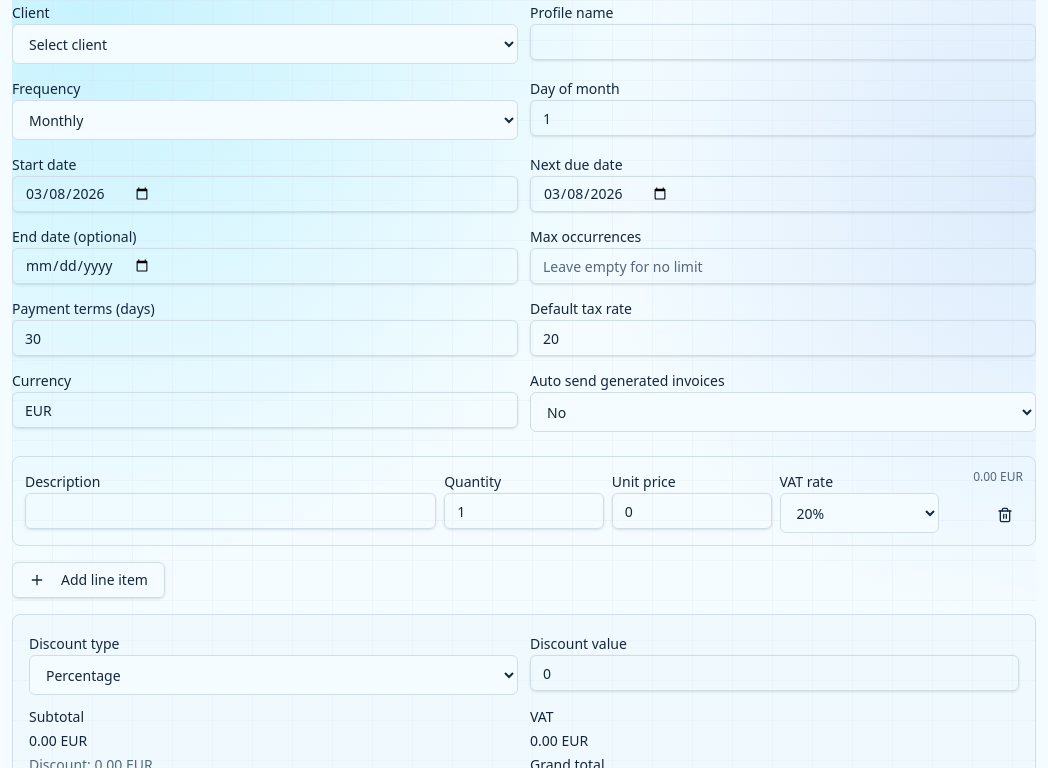
Test: RecurringInvoiceForm › validates end date is after start date
The width and height of the screenshot is (1048, 768).
Select "Acme" in the dropdown labelled "Client" at (265, 44), box 12,24 -> 518,64
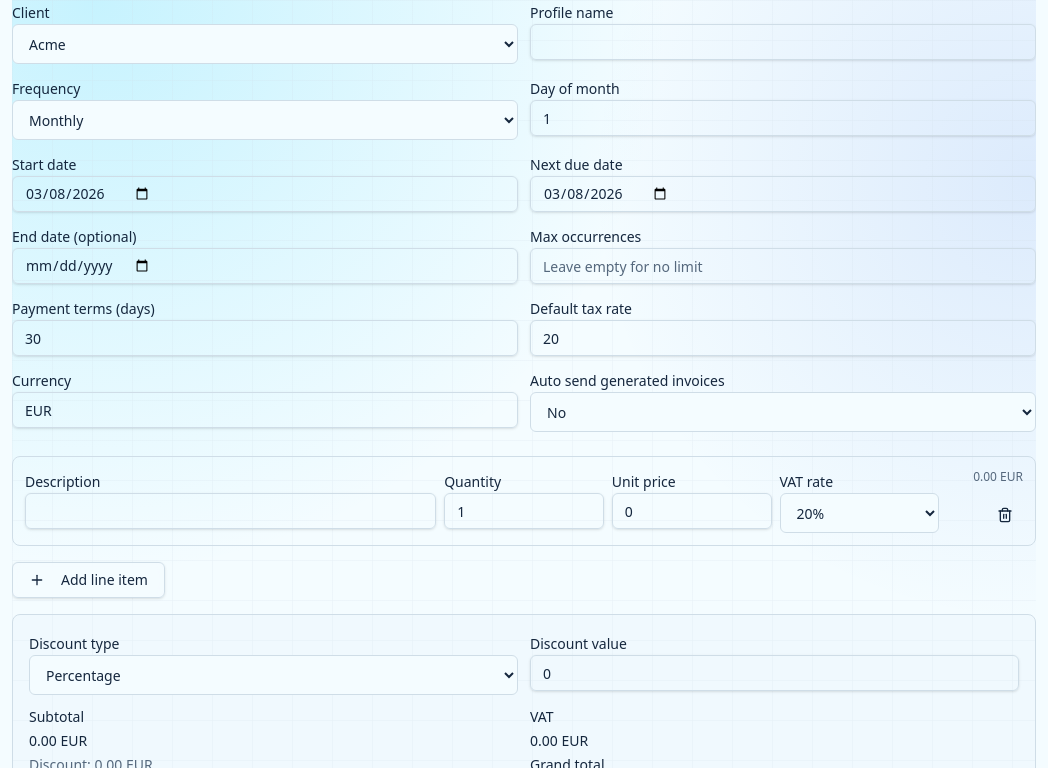
Type "Monthly" into the field labelled "Profile name".
click(783, 42); type("Monthly")  # box 530,24 -> 1036,60
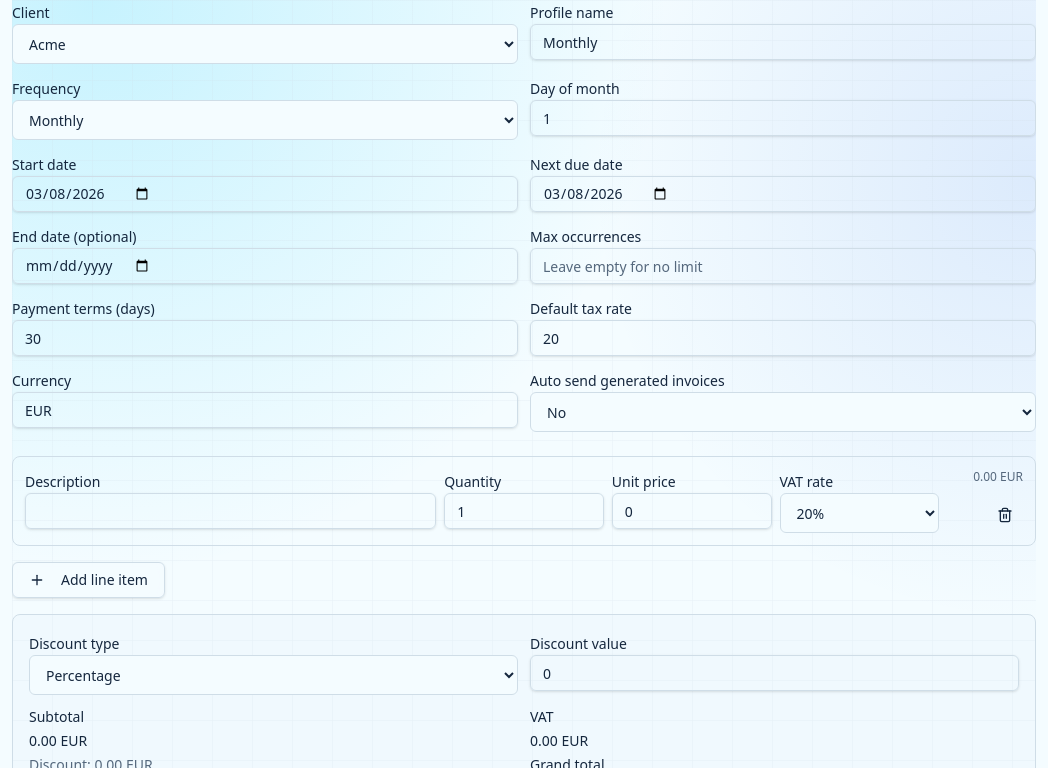
Type "2026-02-10" into the date field labelled "Start date".
click(265, 194); type("2026-02-10")  # box 12,176 -> 518,212
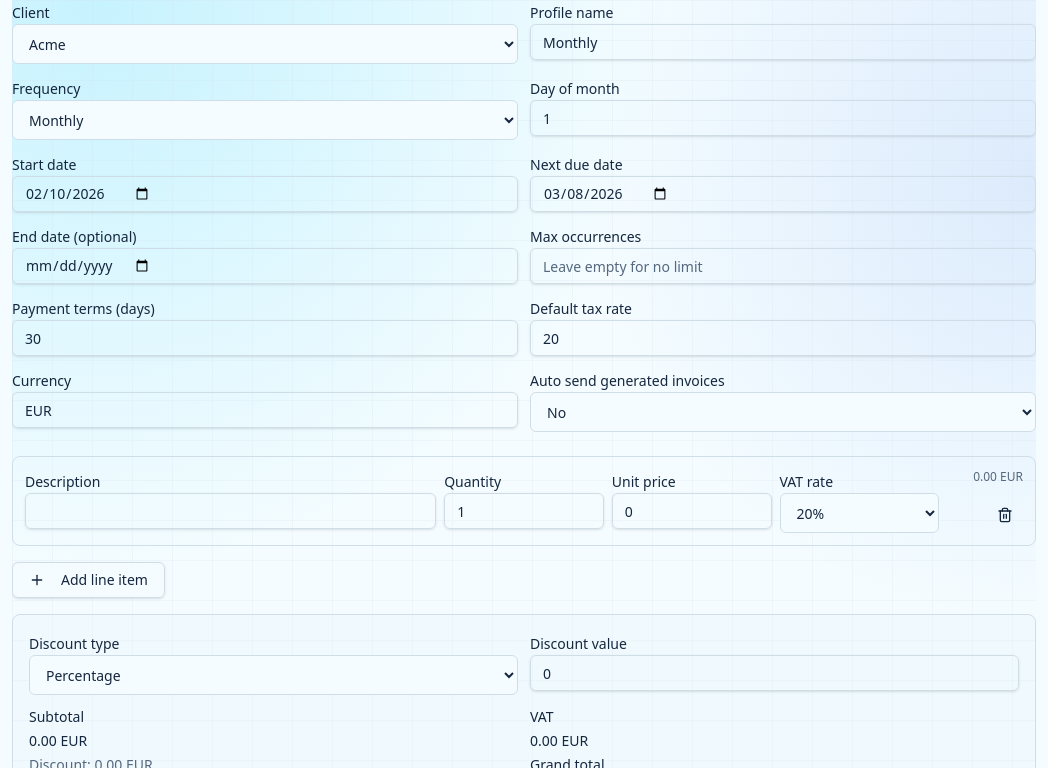
Type "2026-02-01" into the date field labelled "End date (optional)".
click(265, 266); type("2026-02-01")  # box 12,248 -> 518,284
(page scrolled)
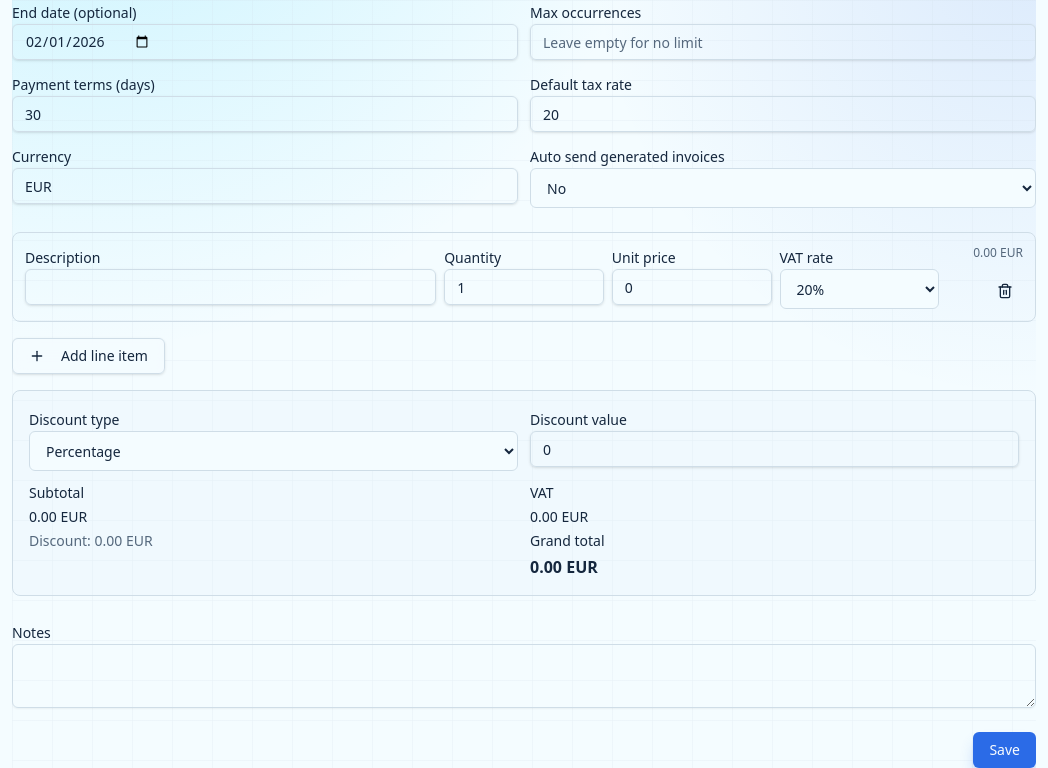
Submit the form from the button "Save", box 973,732 -> 1036,767
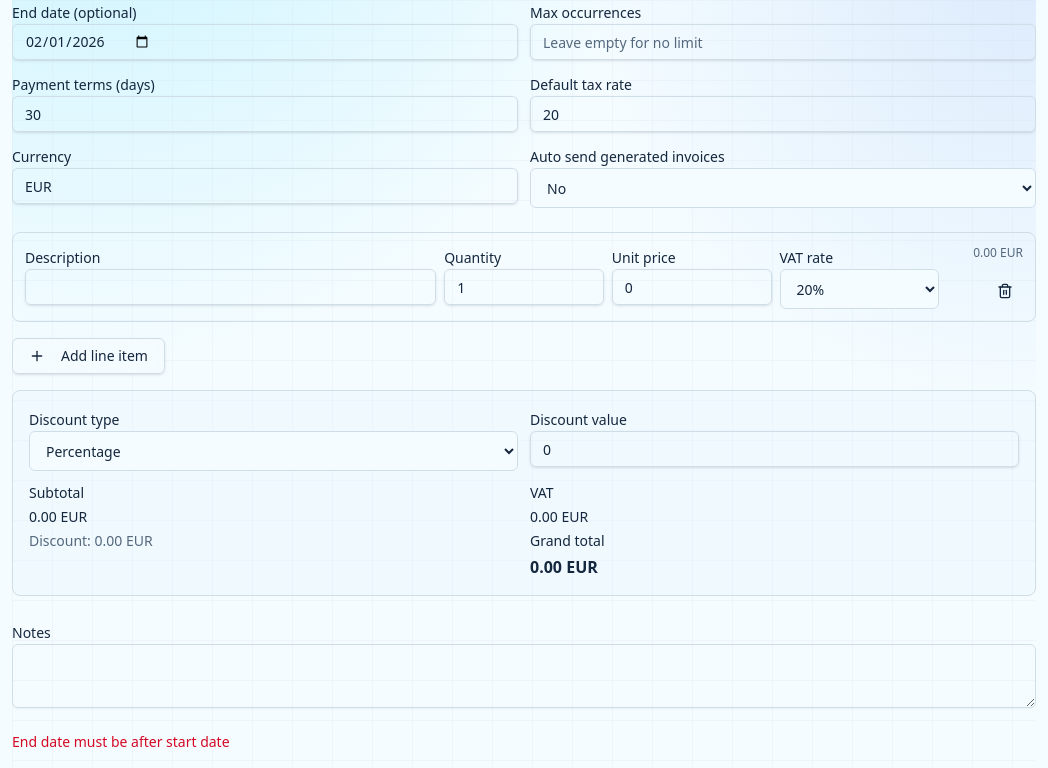
Check: the text "End date must be after start date" is shown, box 12,732 -> 230,751
